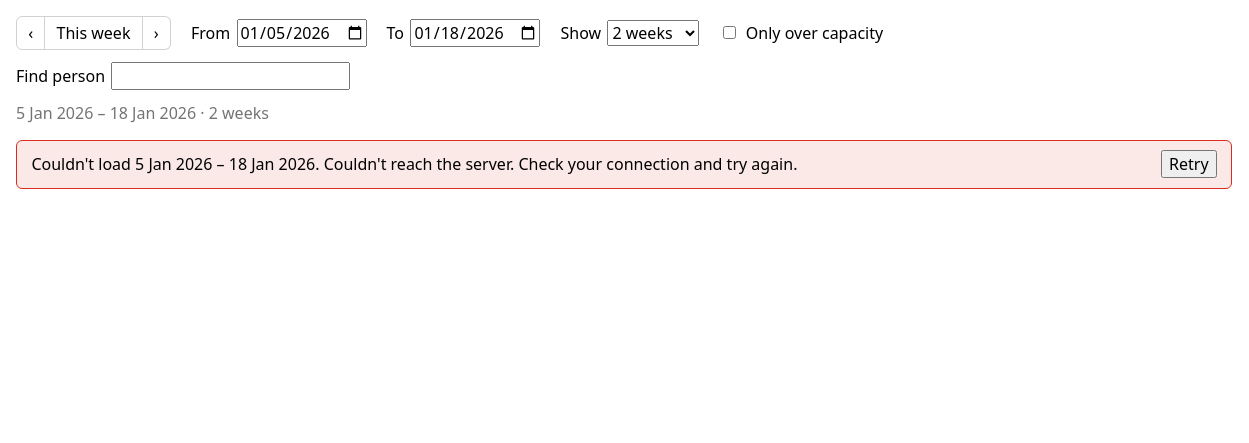
Test case: starts "slow" afresh when a slow load is retried
Step 1. Click the button "Retry" → (1189, 164), box [1161,150,1217,178]
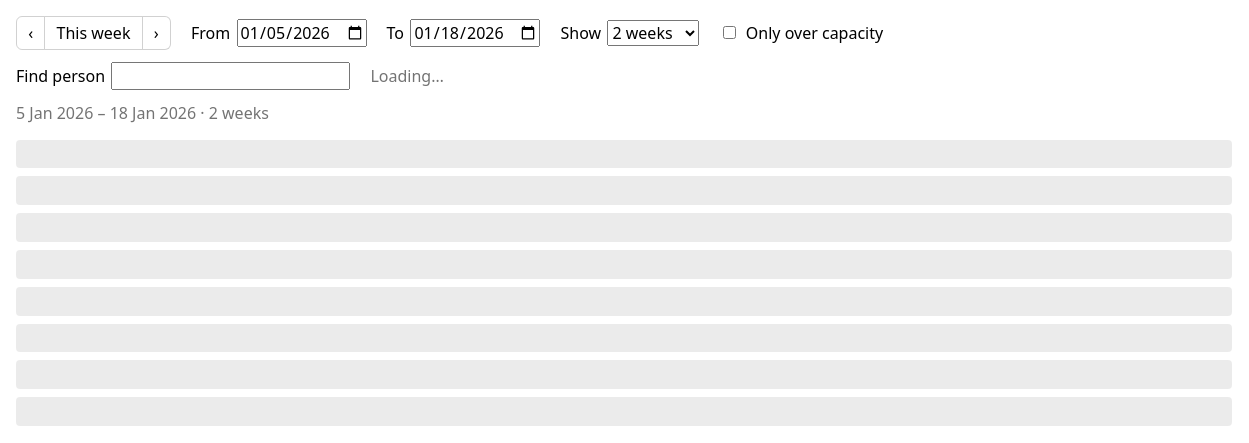
Expected: the message does not show "Still loading", [370,65,444,87]
Expected: the message reads "Loading…", [370,65,444,87]
